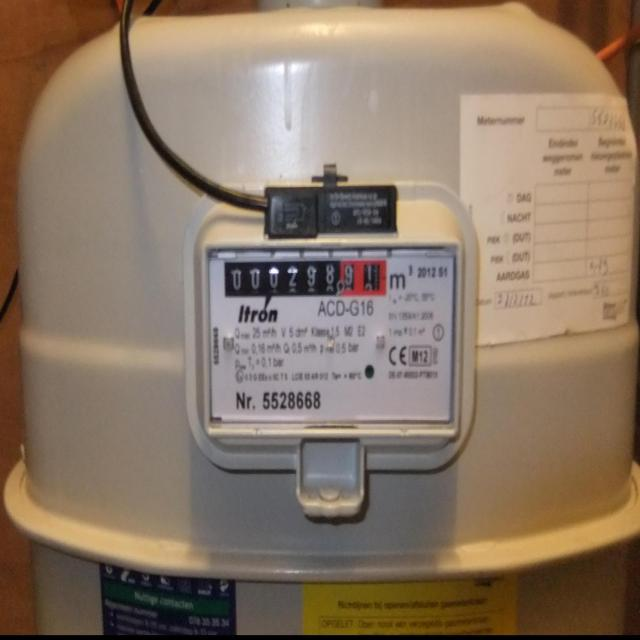gaz_meter: (207, 248, 458, 432)
indication: (224, 261, 387, 299)
